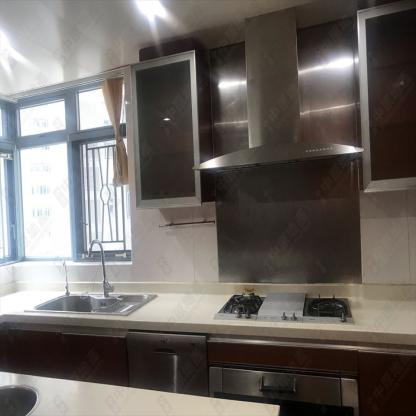Cupboard: (129, 41, 250, 208)
Exhaust Hood: (197, 8, 363, 172)
Faucet: (87, 237, 111, 295)
Oven: (209, 366, 360, 415)
Sink: (28, 293, 156, 317)
Stove: (211, 289, 354, 325)
